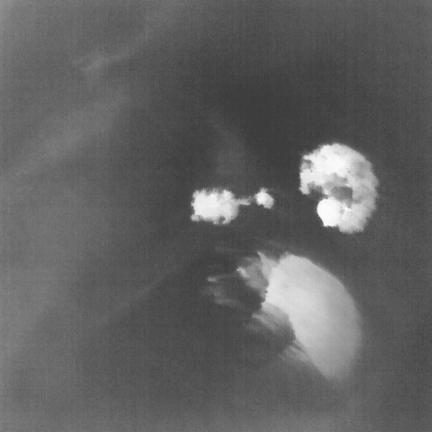flukeprints: (259, 252, 362, 381), (299, 143, 378, 233), (191, 189, 250, 224), (254, 188, 274, 208)
